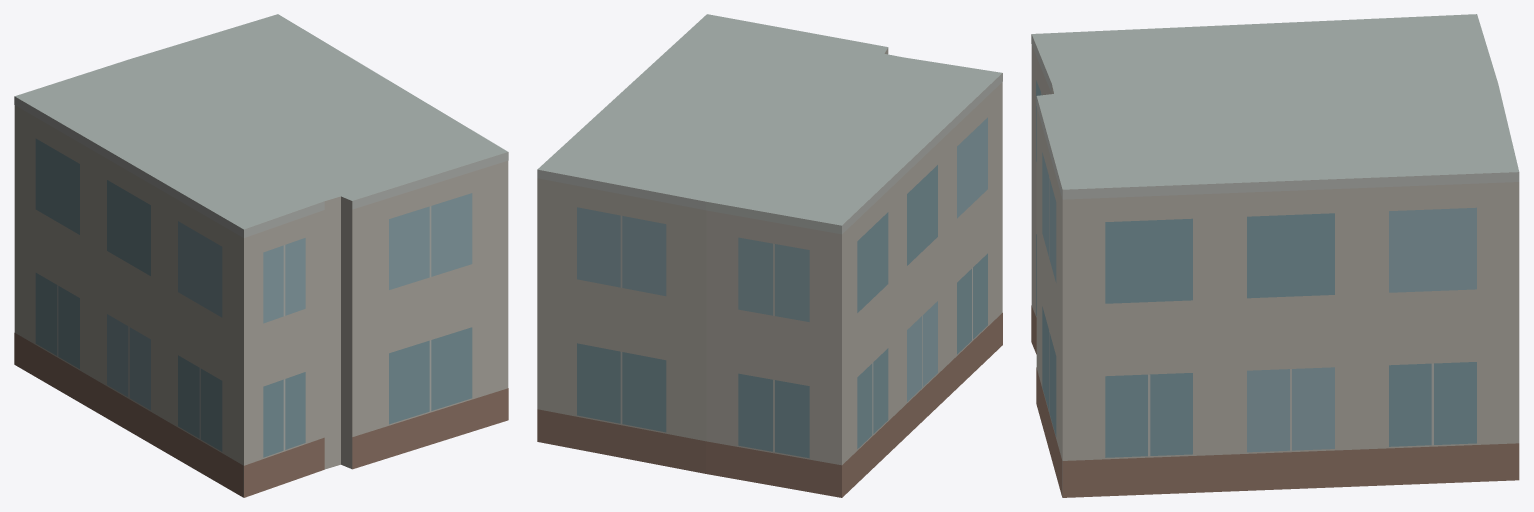
The model's file is survey-upis-32631020.glb.
3 views of the same model, side by side, from view 1: azimuth 30°, elevation 25°; view 2: azimuth 150°, elevation 25°; view 3: azimuth 270°, elevation 25° (orthographic). The views are drawn at different scales.
Parts seen in each view (by area): view 1: survey-upis-32631020.tmp; view 2: survey-upis-32631020.tmp; view 3: survey-upis-32631020.tmp.
Boxes of the visible parts, x1,y1,x2,y2 form: survey-upis-32631020.tmp: (14,14,508,497); survey-upis-32631020.tmp: (537,14,1002,497); survey-upis-32631020.tmp: (1031,14,1519,497).
Size of the model in its own units: 9.3 by 7.6 by 10.91.
